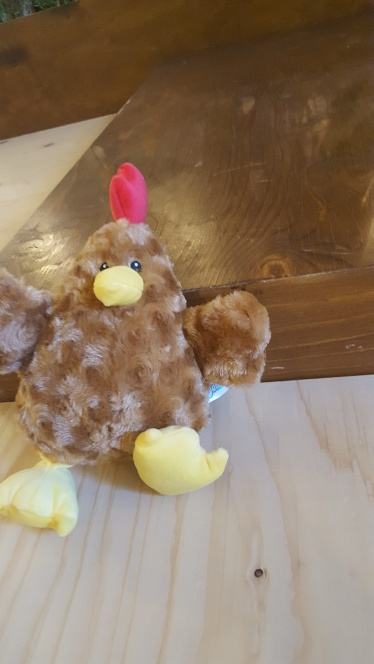chicken_front: (1, 160, 268, 541)
